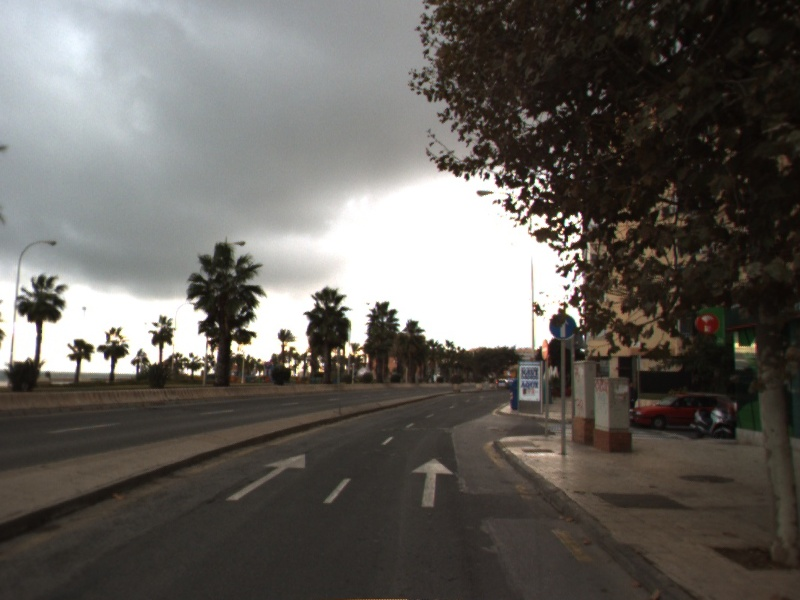STRAIGHT: (224, 452, 307, 502), (410, 457, 455, 509)
